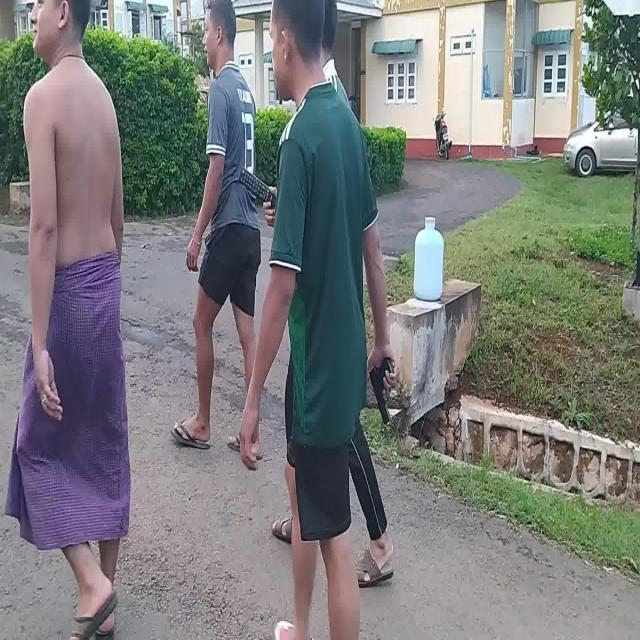gun: (368, 356, 394, 424)
